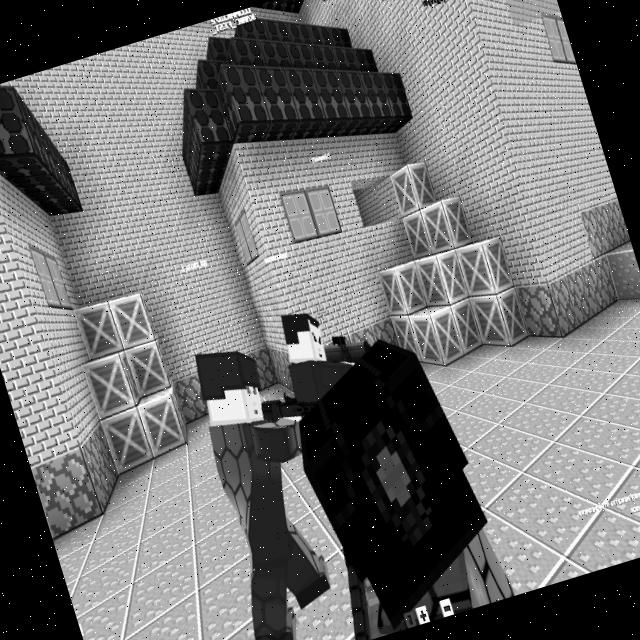Head: (273, 323, 494, 592), (187, 334, 270, 432), (274, 304, 331, 368)
Player: (270, 319, 512, 640), (168, 328, 358, 640), (268, 296, 361, 406)
